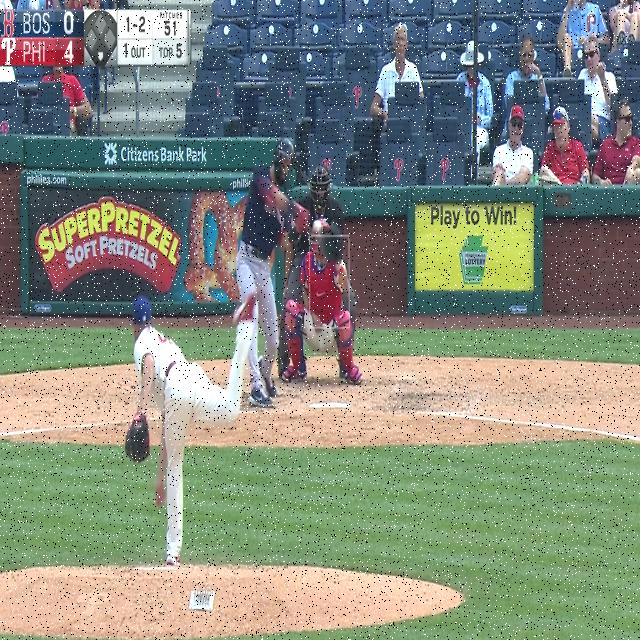baseball: (313, 220, 321, 232)
